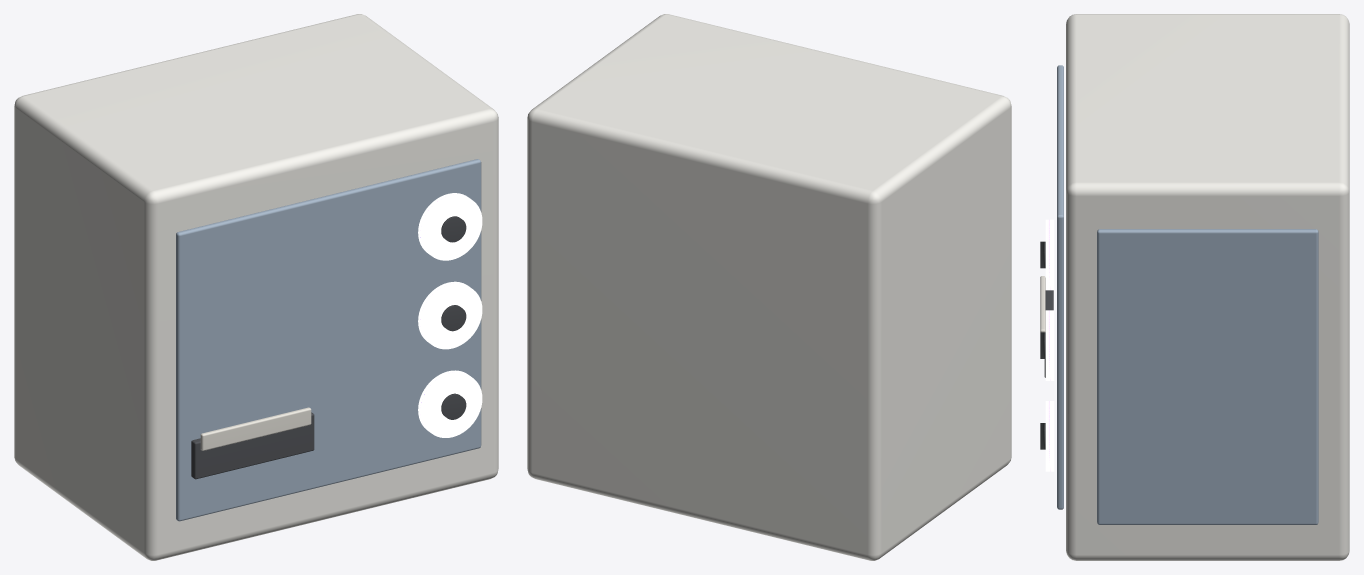
Rendered from p2s_video_so_ong_hyte_y70_snow_white.proxy.glb.
3 views of the same model, side by side, from view 1: azimuth 30°, elevation 25°; view 2: azimuth 150°, elevation 25°; view 3: azimuth 270°, elevation 25° (orthographic). The views are drawn at different scales.
Parts seen in each view (by area): view 1: repair_hyte_outer_white_frame, repair_front_glass, repair_vertical_gpu, repair_rgb_fan, repair_rgb_fan.001, repair_rgb_fan.002, repair_white_gpu_face; view 2: repair_hyte_outer_white_frame; view 3: repair_hyte_outer_white_frame, repair_side_glass, repair_front_glass, repair_rgb_fan.002, repair_rgb_fan, repair_rgb_fan.001.
Boxes of the visible parts, left/top/right/bottom form: repair_hyte_outer_white_frame: left=14, top=14, right=498, bottom=560; repair_front_glass: left=176, top=159, right=481, bottom=521; repair_vertical_gpu: left=191, top=412, right=314, bottom=479; repair_rgb_fan: left=418, top=370, right=482, bottom=437; repair_rgb_fan.001: left=418, top=281, right=482, bottom=349; repair_rgb_fan.002: left=418, top=193, right=482, bottom=260; repair_white_gpu_face: left=200, top=407, right=311, bottom=450; repair_hyte_outer_white_frame: left=527, top=14, right=1011, bottom=560; repair_hyte_outer_white_frame: left=1066, top=14, right=1349, bottom=560; repair_side_glass: left=1097, top=229, right=1318, bottom=524; repair_front_glass: left=1057, top=65, right=1063, bottom=509; repair_rgb_fan.002: left=1045, top=219, right=1054, bottom=290; repair_rgb_fan: left=1045, top=401, right=1054, bottom=471; repair_rgb_fan.001: left=1045, top=310, right=1054, bottom=380.
Bounding box in the file's own units: 0.478 × 0.47 × 0.349.
